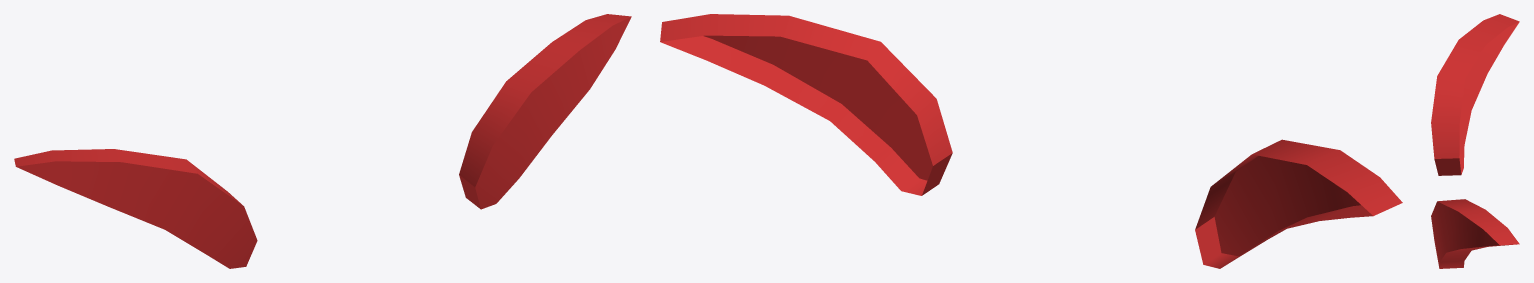
The model's file is Brow_Red_2.fbx.
3 renders of one model, left to right at view 1: azimuth 30°, elevation 25°; view 2: azimuth 150°, elevation 25°; view 3: azimuth 270°, elevation 25°, orthographic. The views are drawn at different scales.
Parts seen in each view (by area): view 1: Brow_Red_2; view 2: Brow_Red_2; view 3: Brow_Red_2.
Boxes of the visible parts, left/top/right/bottom form: Brow_Red_2: left=14, top=14, right=631, bottom=268; Brow_Red_2: left=660, top=14, right=1402, bottom=268; Brow_Red_2: left=1431, top=14, right=1519, bottom=268.
Bounding box in the file's own units: 27.94 × 5.35 × 4.54.
